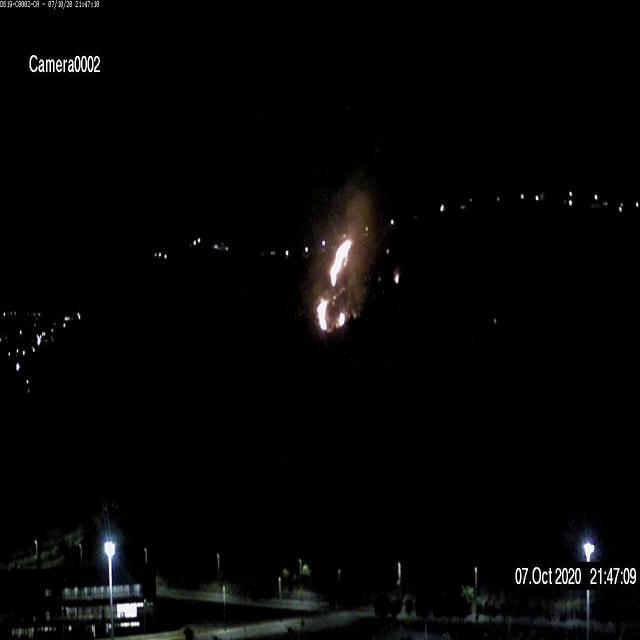Fire: (316, 226, 356, 337)
Smoke: (302, 178, 376, 336)
